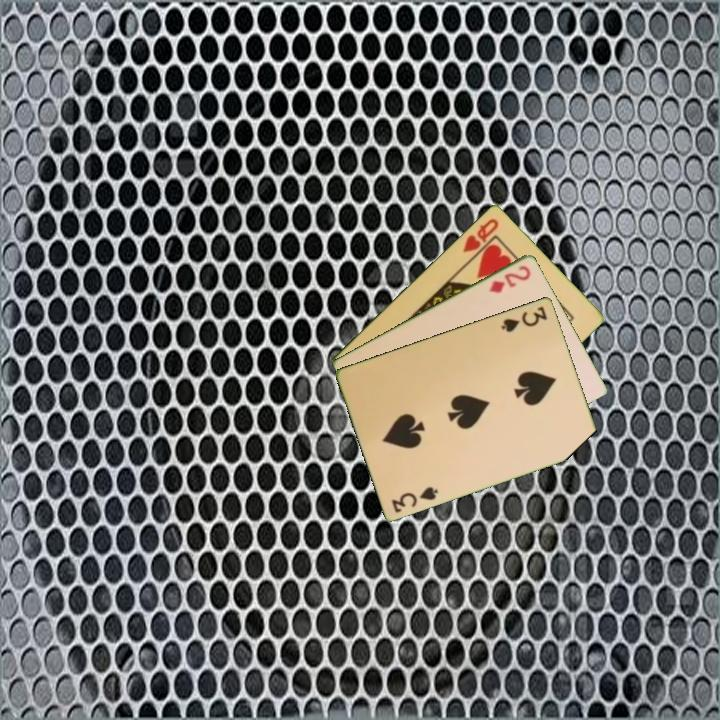2d: (486, 261, 534, 296)
3s: (388, 482, 441, 516), (498, 302, 550, 335)
Qh: (459, 214, 502, 255)
